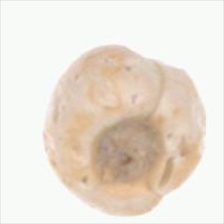L4: (42, 44, 206, 215)
